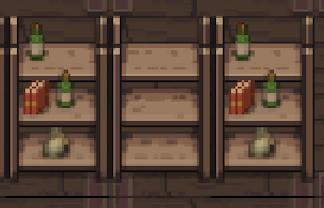Obstacle: (211, 7, 317, 187), (8, 10, 111, 189), (112, 7, 212, 184)
